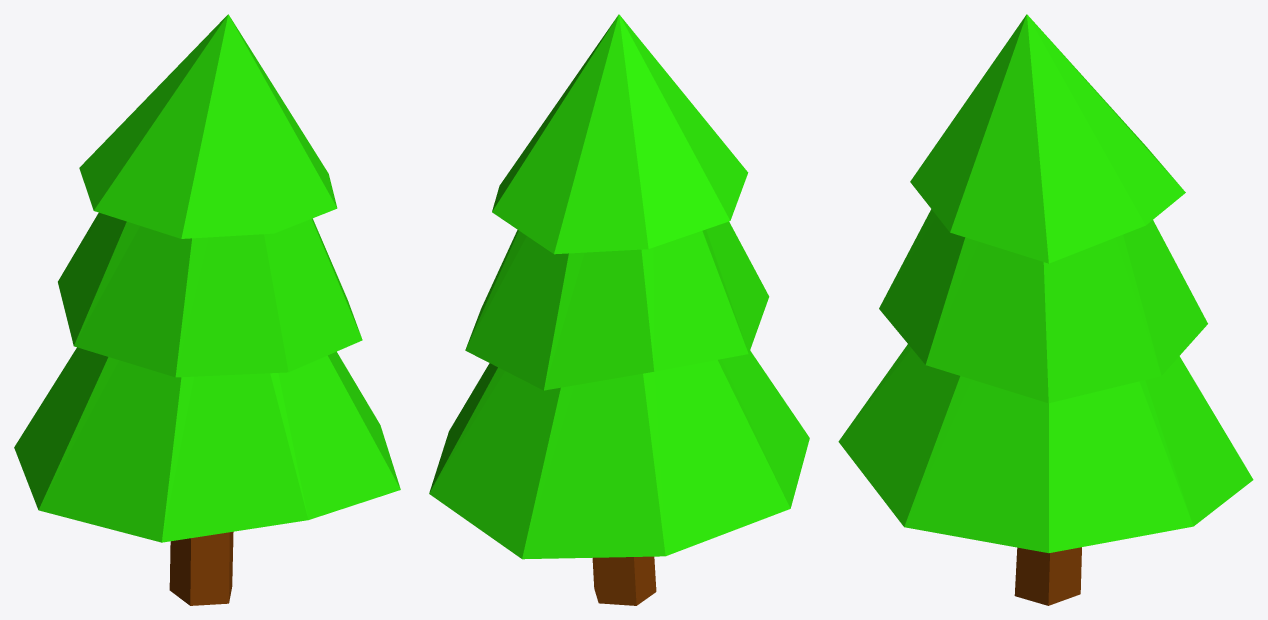
Rendered from 3D_Tree_002.FBX.
3 views of the same model, side by side, from view 1: azimuth 30°, elevation 25°; view 2: azimuth 150°, elevation 25°; view 3: azimuth 270°, elevation 25° (orthographic). The views are drawn at different scales.
Parts seen in each view (by area): view 1: Leaves, Trunk; view 2: Leaves, Trunk; view 3: Leaves, Trunk.
Boxes of the visible parts, bbox=[...] form: Leaves: bbox=[14, 14, 400, 542]; Trunk: bbox=[169, 531, 233, 605]; Leaves: bbox=[429, 14, 809, 559]; Trunk: bbox=[592, 556, 656, 605]; Leaves: bbox=[838, 14, 1253, 553]; Trunk: bbox=[1014, 547, 1081, 605].
Bounding box in the file's own units: 88.92 × 143 × 92.29.
